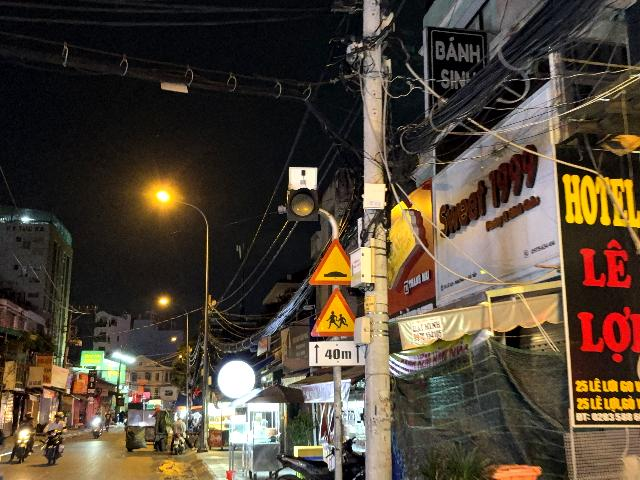duong-co-go-giam-toc: (309, 238, 351, 284)
tre-em-qua-duong: (311, 288, 355, 336)
